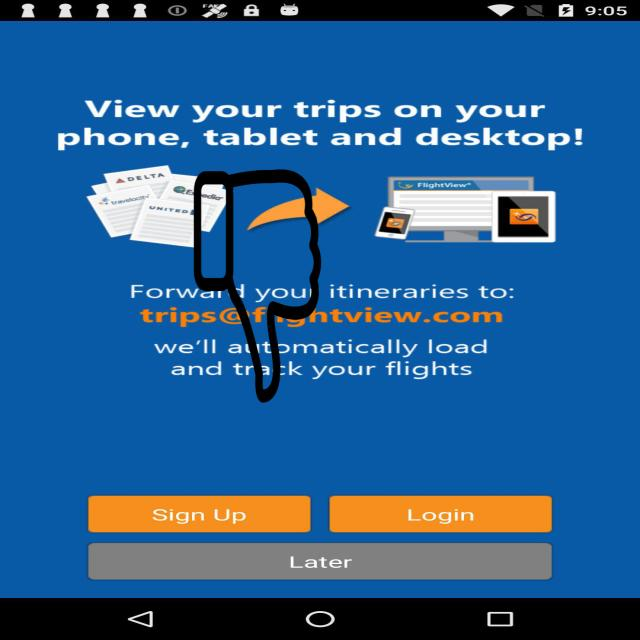obstruction: (192, 169, 323, 403)
